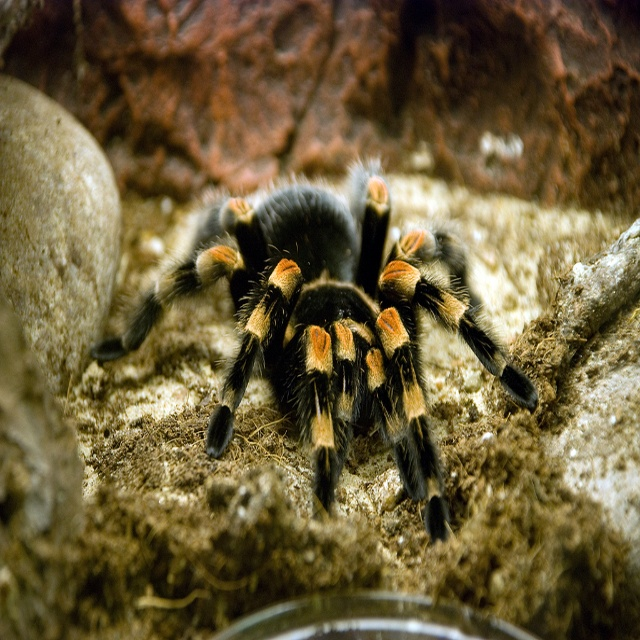Spider: (88, 153, 539, 541)
